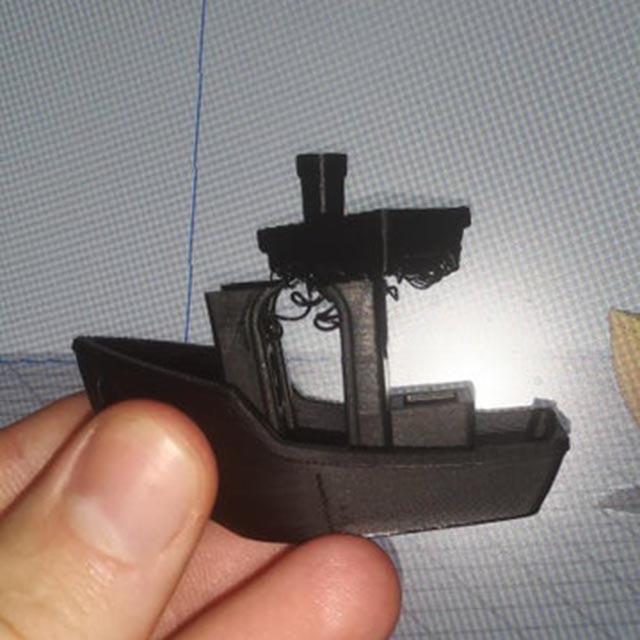Spaghetti: (266, 262, 343, 338), (384, 250, 463, 304)
